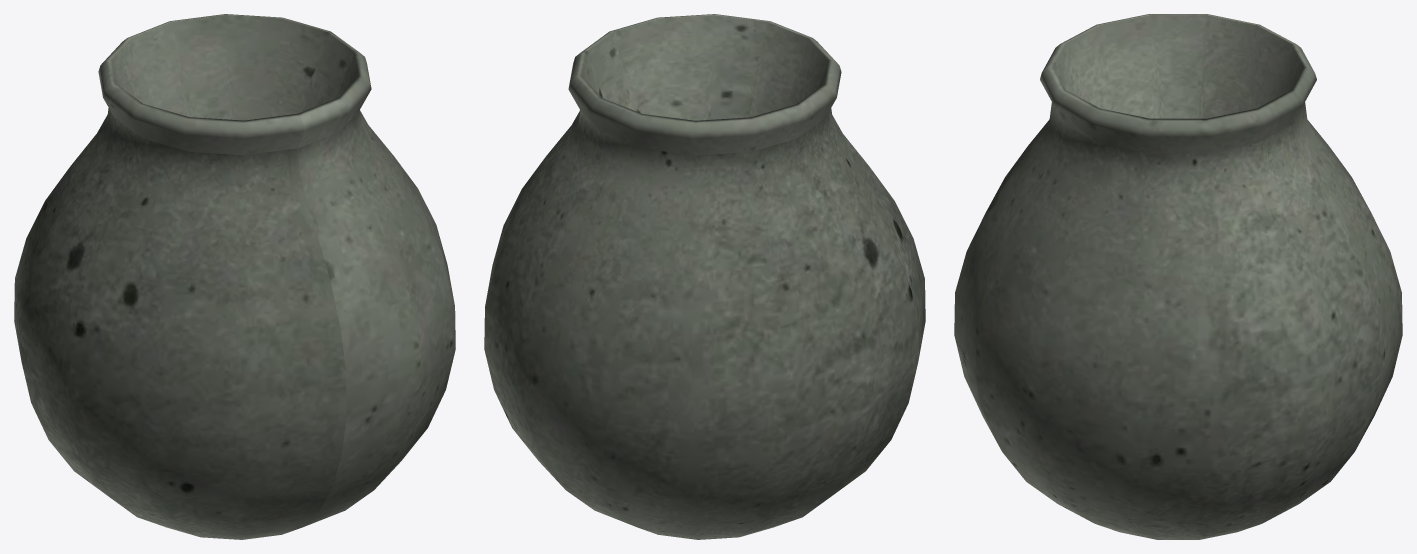
File: Vase_14.glb
3 renders of one model, left to right at view 1: azimuth 30°, elevation 25°; view 2: azimuth 150°, elevation 25°; view 3: azimuth 270°, elevation 25°, orthographic.
Parts seen in each view (by area): view 1: SM_Vase_14; view 2: SM_Vase_14; view 3: SM_Vase_14.
Boxes of the visible parts, x1=… form: SM_Vase_14: x1=14, y1=14, x2=455, y2=539; SM_Vase_14: x1=484, y1=14, x2=925, y2=539; SM_Vase_14: x1=954, y1=14, x2=1402, y2=539.
Size of the model in its own units: 0.1925 by 0.2115 by 0.1976.
Materials: 1 (1 with a texture image).
